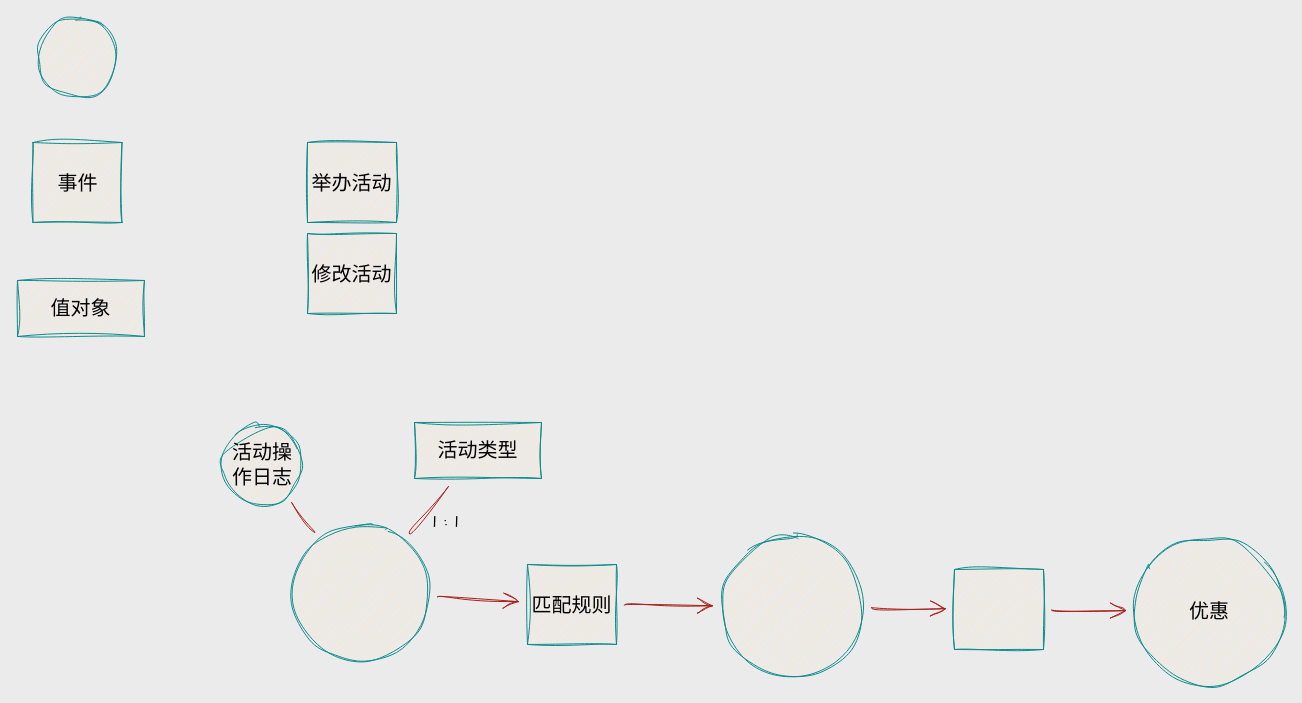
Some shapes in this 1302 by 703 pixel diagram are drawn without their labels. Each missing label, with the box of its shape:
实体: (36, 16, 118, 98)
活动: (292, 524, 430, 662)
规则: (720, 534, 864, 678)
计算优惠: (954, 568, 1044, 650)
